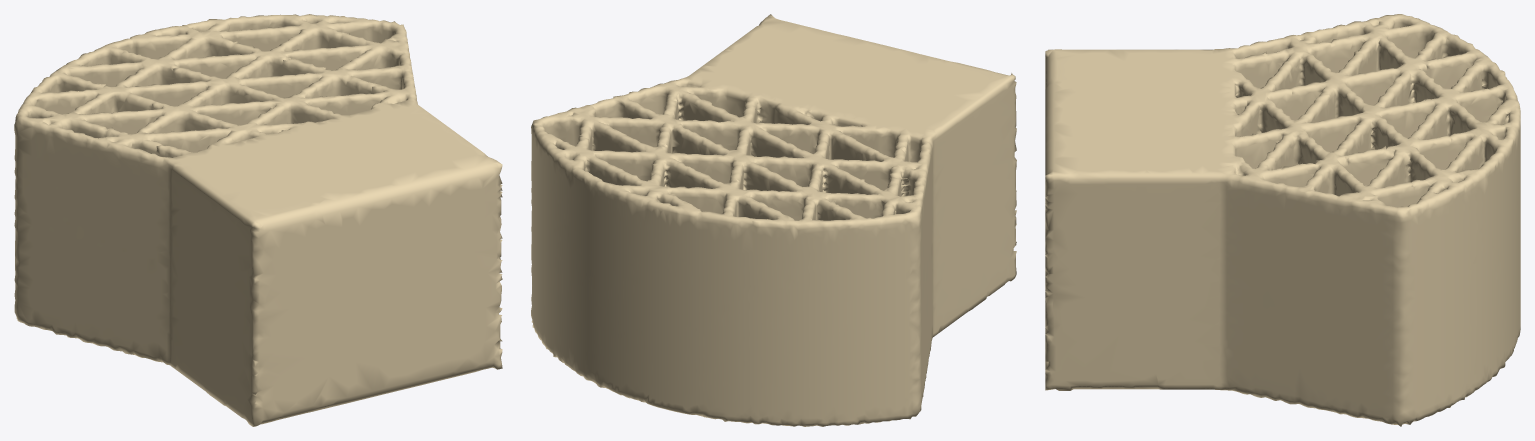
Rendered from ollie-paw-shape-050.glb.
3 renders of one model, left to right at view 1: azimuth 30°, elevation 25°; view 2: azimuth 150°, elevation 25°; view 3: azimuth 270°, elevation 25°, orthographic. The views are drawn at different scales.
Visible parts, largest first — view 1: world; view 2: world; view 3: world.
Boxes of the visible parts, left/top/right/bottom form: world: left=14, top=14, right=502, bottom=426; world: left=531, top=14, right=1016, bottom=426; world: left=1045, top=14, right=1520, bottom=426.
Bounding box in the file's own units: 39.89 × 20 × 40.
